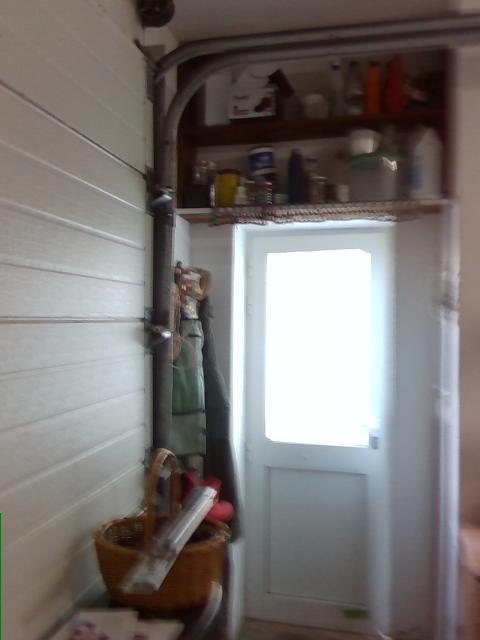closed_door: (230, 216, 394, 639)
